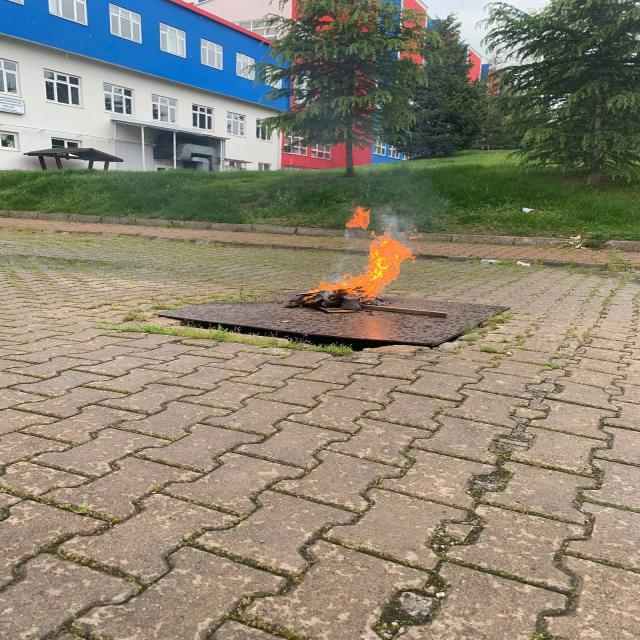fire: (305, 203, 417, 310)
